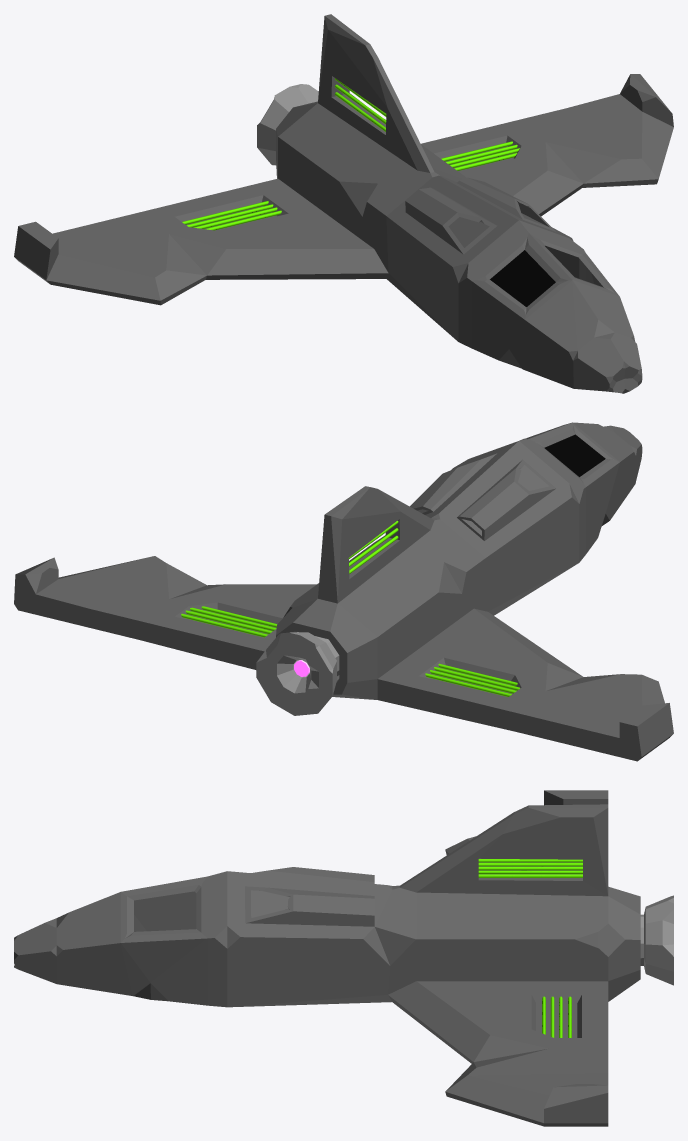
File: rocket_plane_1.glb
3 views of the same model, one above another, from view 1: azimuth 30°, elevation 25°; view 2: azimuth 150°, elevation 25°; view 3: azimuth 270°, elevation 25° (orthographic).
Parts seen in each view (by area): view 1: RocketBody, RocketWindows, RocketEngine, WiresWingRight, WiresWingLeft, WiresTopRight; view 2: RocketBody, RocketEngine, WiresWingRight, WiresWingLeft, RocketWindows, WiresTopRight; view 3: RocketBody, RocketEngine, WiresTopLeft, WiresTopRight, WiresWingLeft.
Boxes of the visible parts, x1,y1,x2,y2 form: RocketBody: (14, 14, 673, 393); RocketWindows: (490, 250, 555, 306); RocketEngine: (257, 84, 318, 165); WiresWingRight: (182, 201, 281, 230); WiresWingLeft: (441, 141, 519, 170); WiresTopRight: (335, 78, 386, 131); RocketBody: (14, 422, 673, 761); RocketEngine: (256, 632, 339, 715); WiresWingRight: (425, 663, 519, 696); WiresWingLeft: (181, 606, 277, 637); RocketWindows: (544, 434, 605, 476); WiresTopRight: (348, 521, 398, 573); RocketBody: (14, 790, 640, 1126); RocketEngine: (640, 895, 673, 985); WiresTopLeft: (478, 859, 582, 877); WiresTopRight: (478, 863, 582, 873); WiresWingLeft: (542, 996, 571, 1037).
Bounding box in the file's own units: 10.89 × 3 × 9.95.
5 materials, 1 textured.
